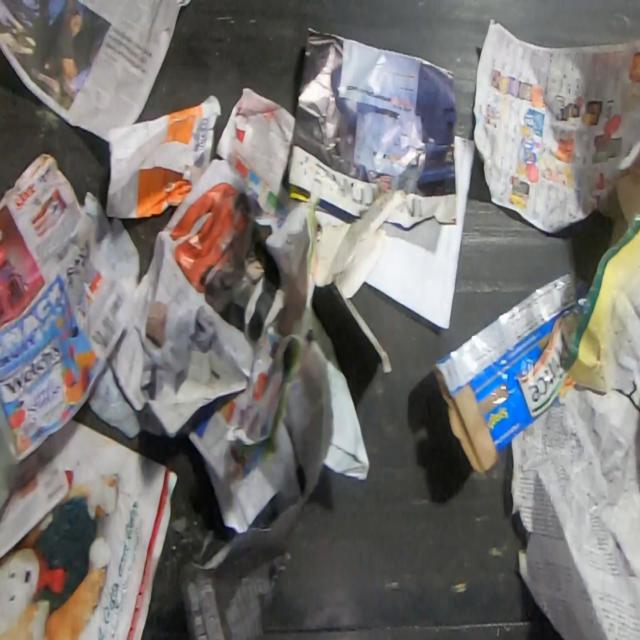cardboard: (434, 269, 590, 476), (595, 145, 639, 251)
